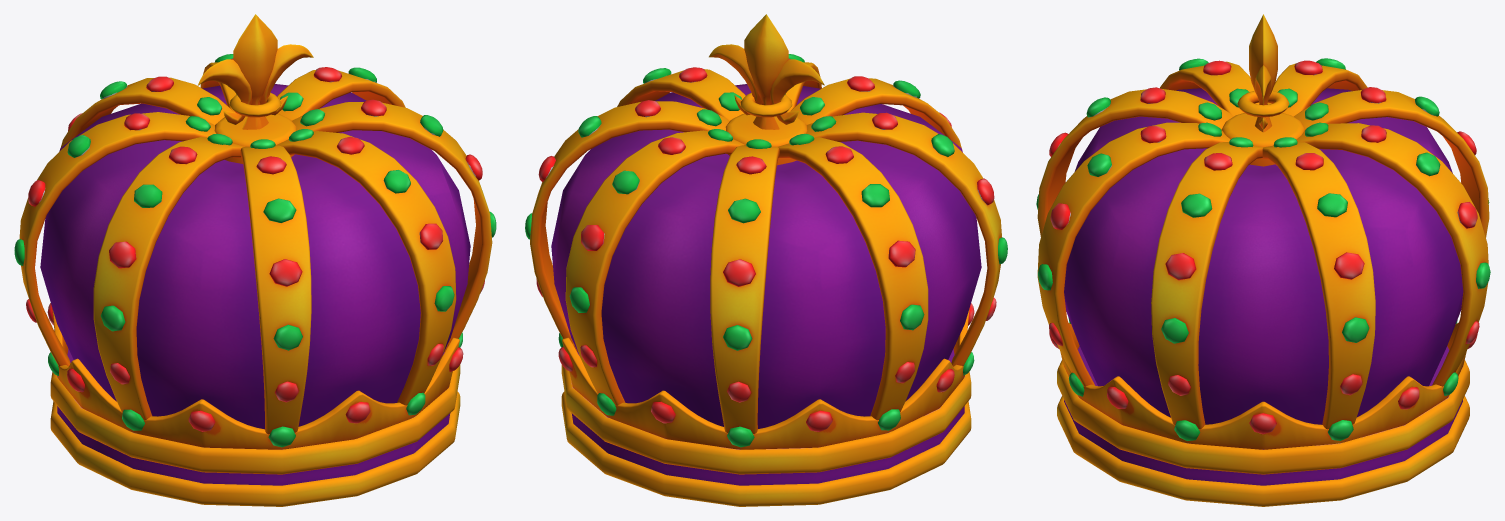
File: Crown.glb
3 views of the same model, side by side, from view 1: azimuth 30°, elevation 25°; view 2: azimuth 150°, elevation 25°; view 3: azimuth 270°, elevation 25° (orthographic).
Parts seen in each view (by area): view 1: Crown; view 2: Crown; view 3: Crown.
Part boxes in pixels (<box>): Crown: <box>14,14,496,506</box>; Crown: <box>525,14,1007,506</box>; Crown: <box>1036,14,1490,506</box>.
Bounding box in the file's own units: 0.5722 × 0.567 × 0.5722.
1 material, 1 textured.
